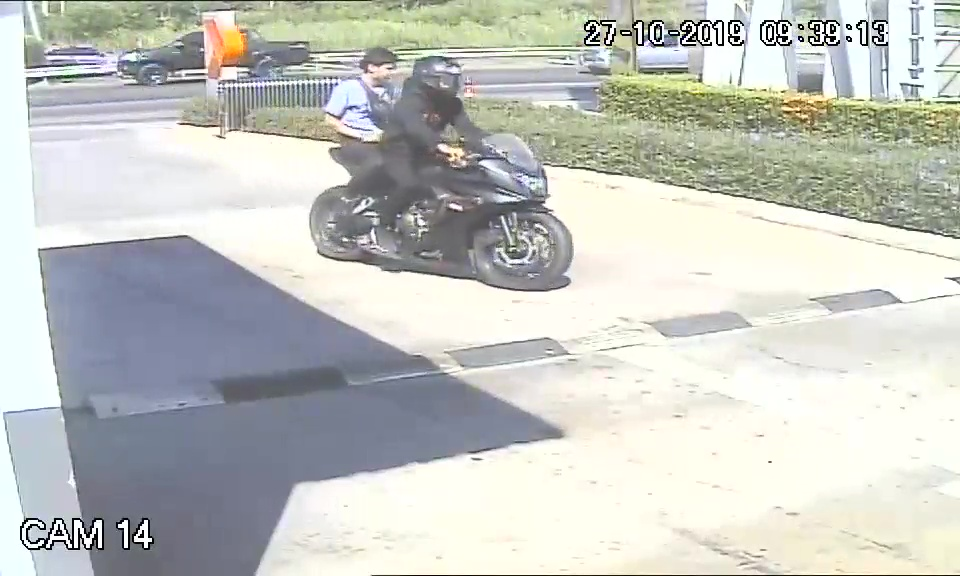motorcycle: (307, 135, 574, 293)
